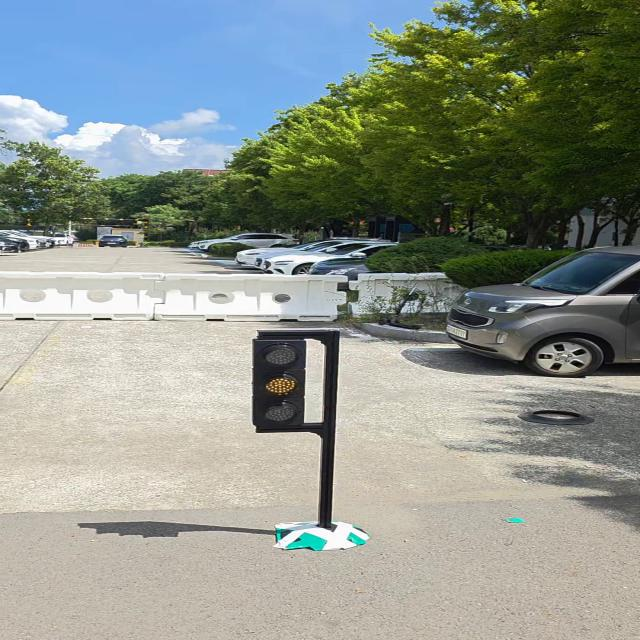yellow: (252, 338, 306, 428)
